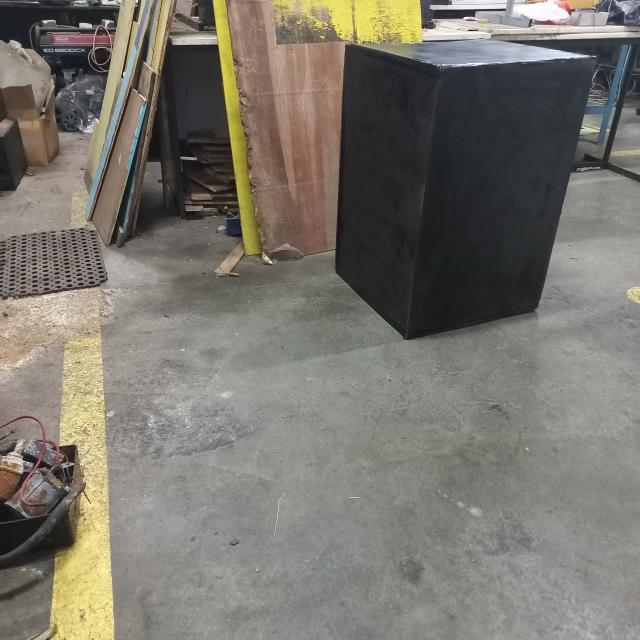obstacle: (335, 36, 597, 344)
